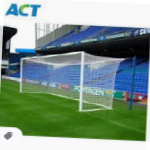goals: (19, 50, 120, 113)
